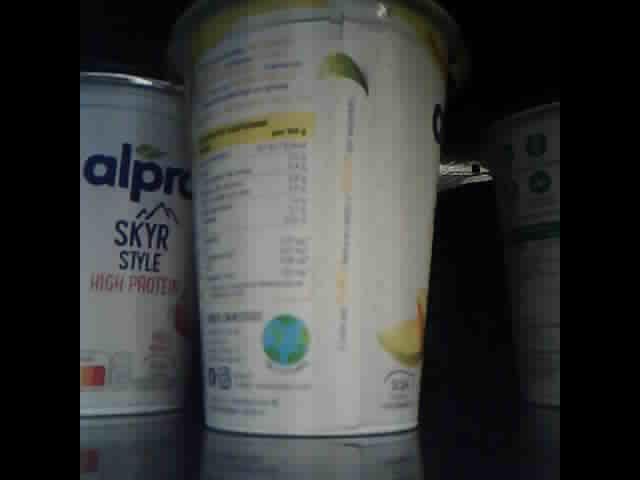alpro: (169, 1, 457, 442), (80, 65, 195, 421), (490, 101, 559, 410)
